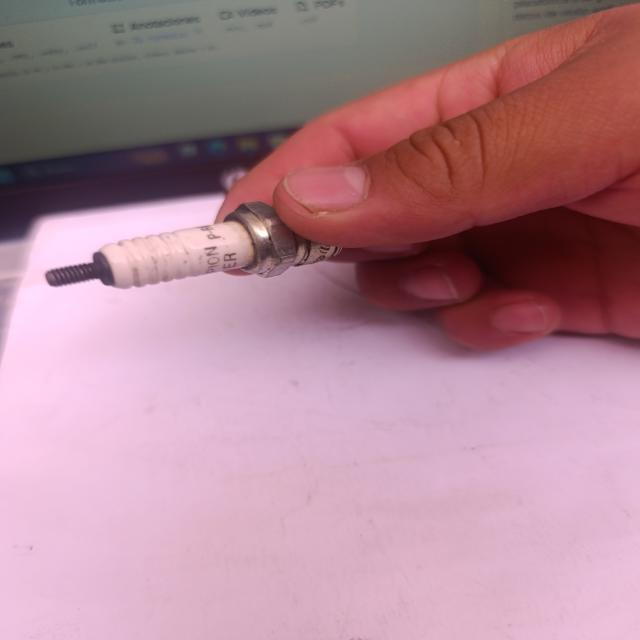bujia: (46, 202, 341, 289)
